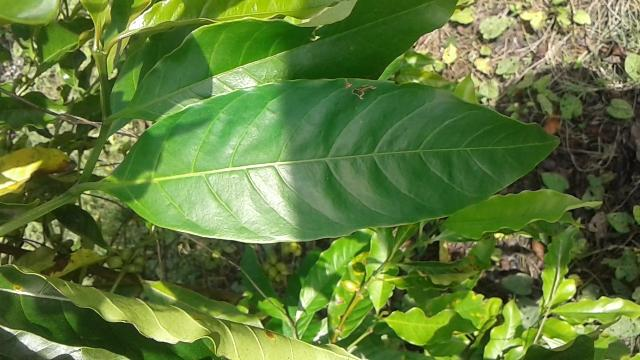red_spider_mite: (80, 80, 560, 241)
